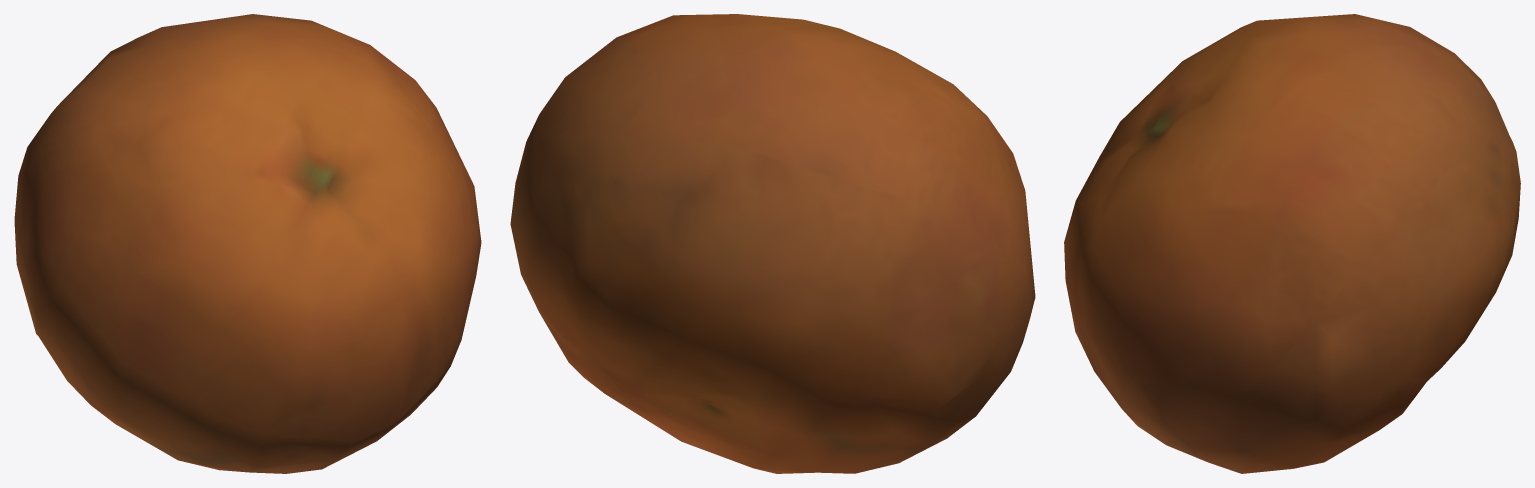
Rendered from Orange.glb.
3 views of the same model, side by side, from view 1: azimuth 30°, elevation 25°; view 2: azimuth 150°, elevation 25°; view 3: azimuth 270°, elevation 25° (orthographic). The views are drawn at different scales.
Parts seen in each view (by area): view 1: MDCNQWOJLU01_LOD2(Clone)_Quality_40; view 2: MDCNQWOJLU01_LOD2(Clone)_Quality_40; view 3: MDCNQWOJLU01_LOD2(Clone)_Quality_40.
Part boxes in pixels (left/top/right/bottom): MDCNQWOJLU01_LOD2(Clone)_Quality_40: left=14, top=14, right=481, bottom=473; MDCNQWOJLU01_LOD2(Clone)_Quality_40: left=510, top=14, right=1035, bottom=473; MDCNQWOJLU01_LOD2(Clone)_Quality_40: left=1064, top=14, right=1520, bottom=473.
Size of the model in its own units: 1.05 by 0.983 by 0.9754.
Materials: 1 (1 with a texture image).
